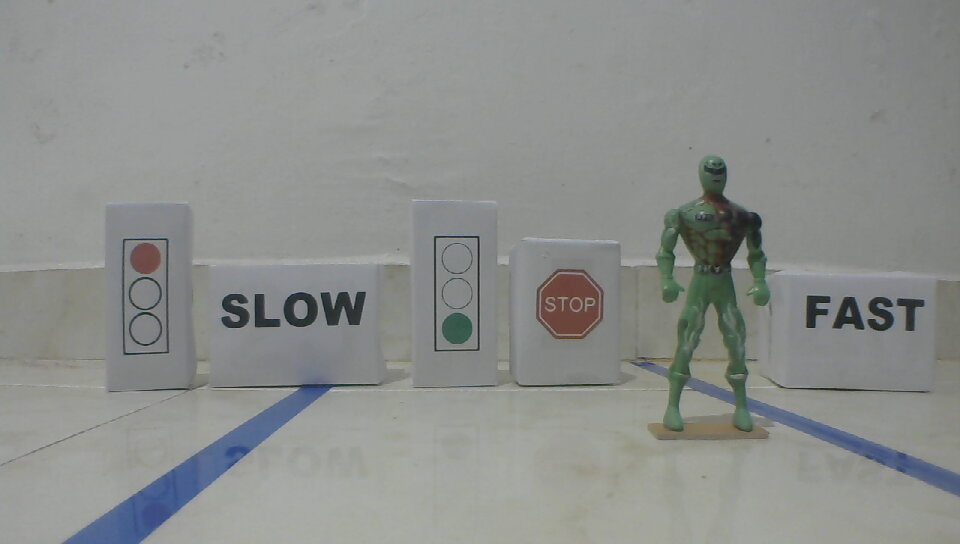Fast: (803, 292, 929, 335)
Green Traffic Light: (431, 233, 483, 356)
Person: (651, 152, 772, 436)
Red Traffic Light: (118, 234, 175, 358)
Slow: (219, 292, 368, 331)
Stop Sign: (534, 267, 605, 341)
